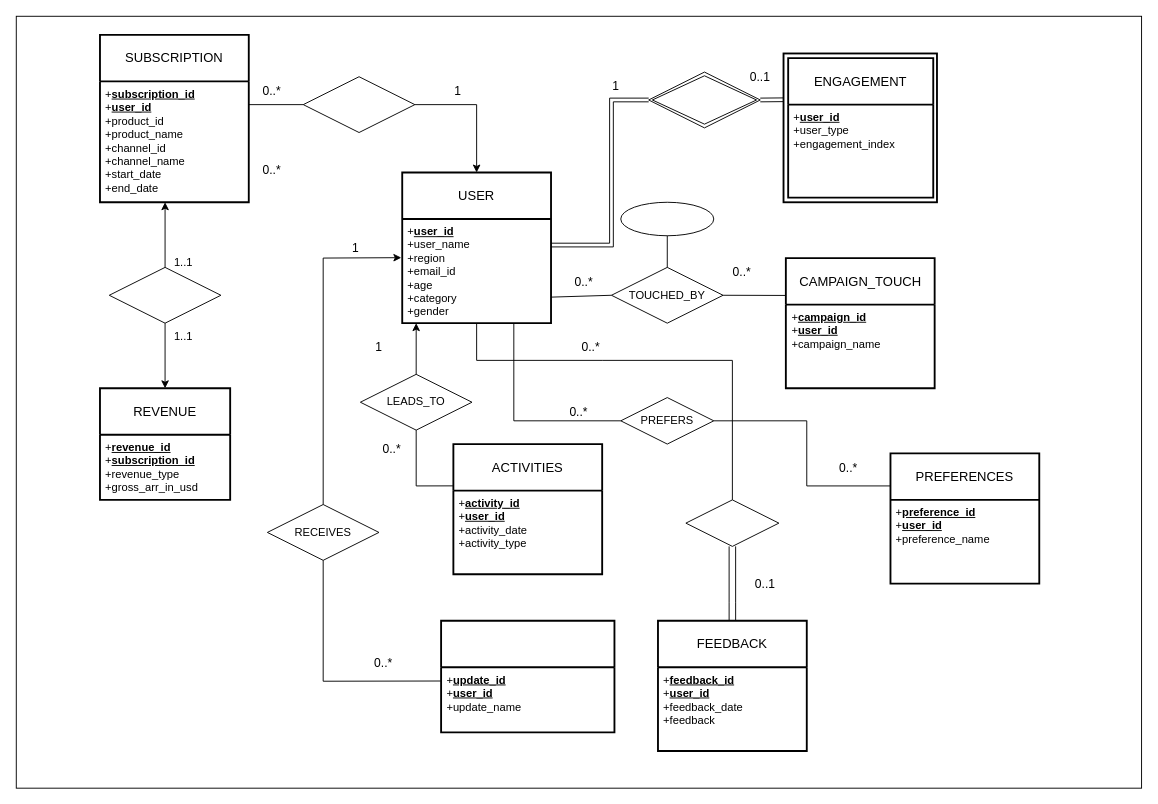
The diagram is 1158 pixels wide and 804 high, and some of its shapes have lost their labels. The shapes that lost their labels are listed below. From the top down, each one's box as (x1, y1, x2, y2) in pixels, then its label:
(302, 76, 415, 133): BUYS
(648, 71, 760, 128): MEASURES
(620, 201, 714, 236): Touch_date
(108, 266, 221, 323): GENERATES
(685, 499, 779, 546): GIVES
(440, 619, 615, 733): PRODUCT UPDATES
